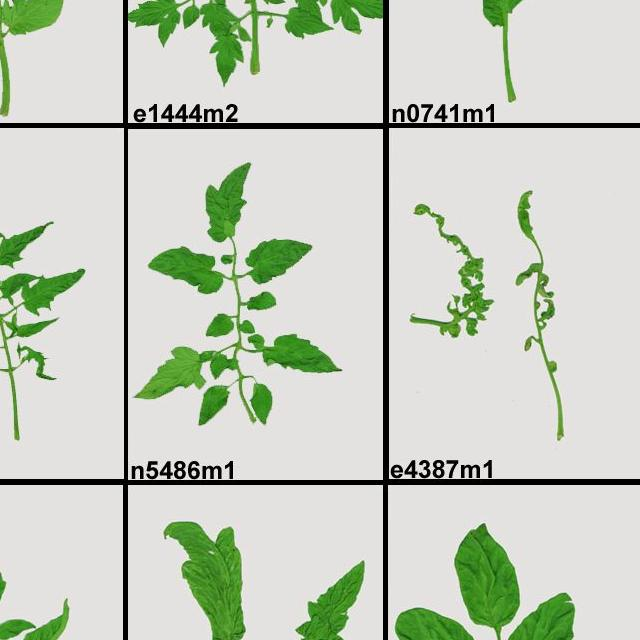Tomato leaf: (417, 0, 573, 31), (203, 146, 246, 251), (233, 237, 322, 286), (0, 0, 80, 48), (0, 145, 9, 233)
